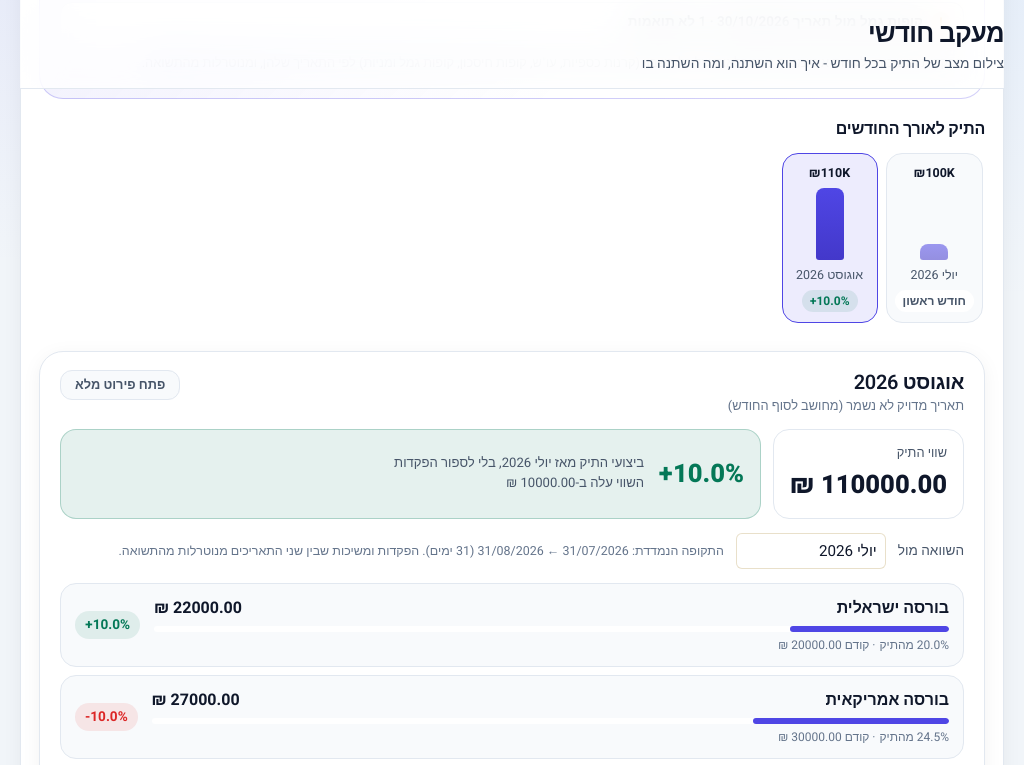
Test case: MonthlyTrackerView › "פתח פירוט מלא" reveals per-item rows (e.g. individual stocks) with their own change, and toggles its own label
This screenshot has width=1024, height=765.
(page scrolled)
Click the button "פתח פירוט מלא" at [120, 385], box [60,370,180,400]
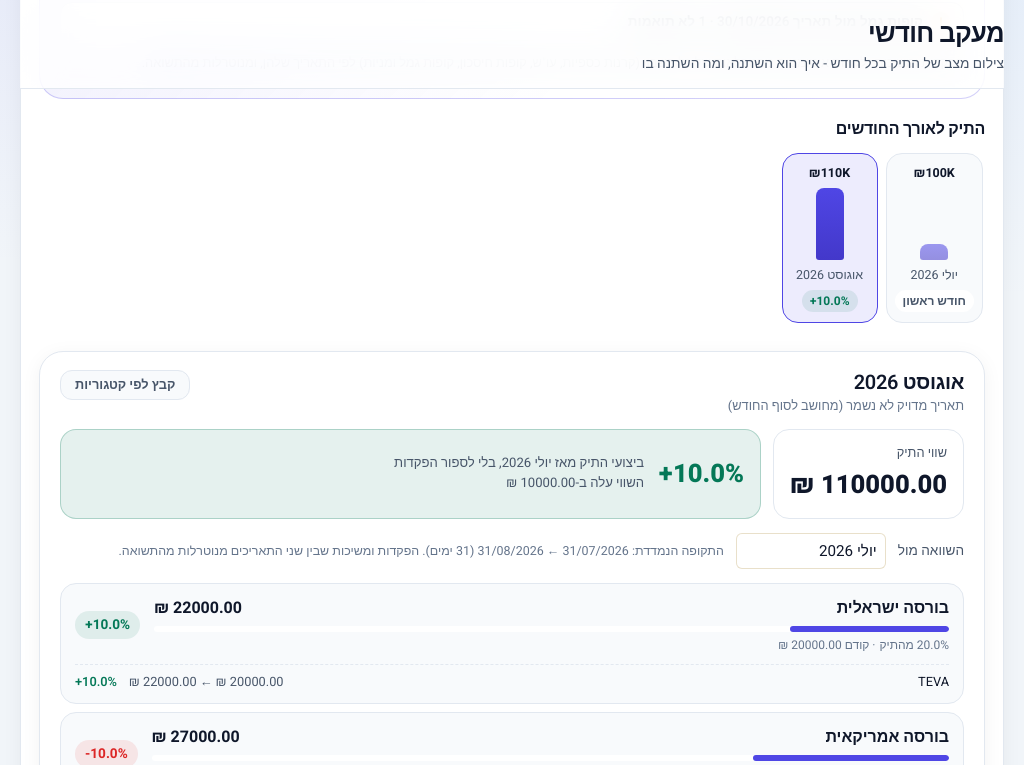
expect the button "קבץ לפי קטגוריות" is shown: met
expect the list item "TEVA" shows "20000.00": met, box [197,673,284,691]
expect the list item "TEVA" shows "22000.00": met, box [129,673,197,691]
Click the button "קבץ לפי קטגוריות" at [125, 385], box [60,370,190,400]
(page scrolled)
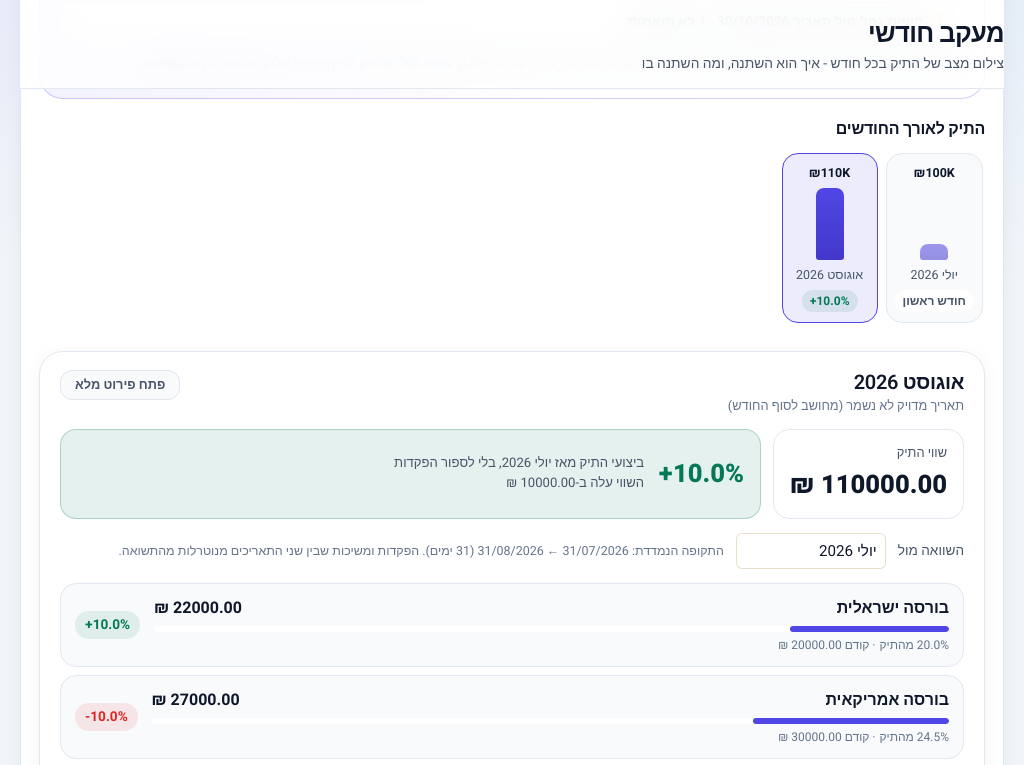
expect the text "TEVA" is gone: met
